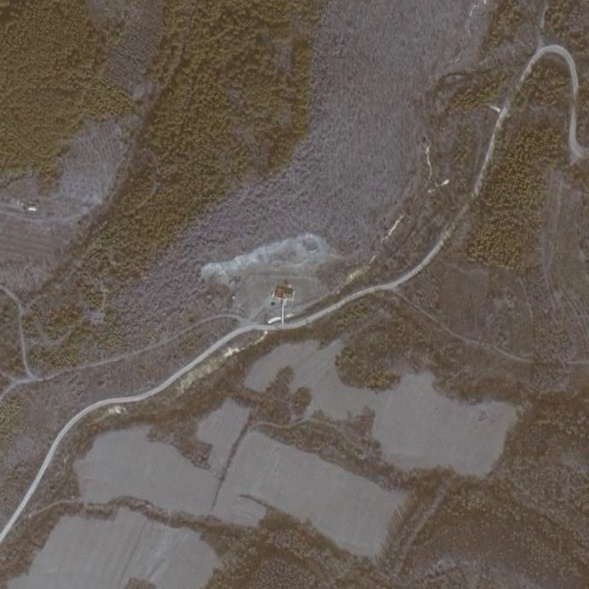slope: (195, 229, 342, 294)
